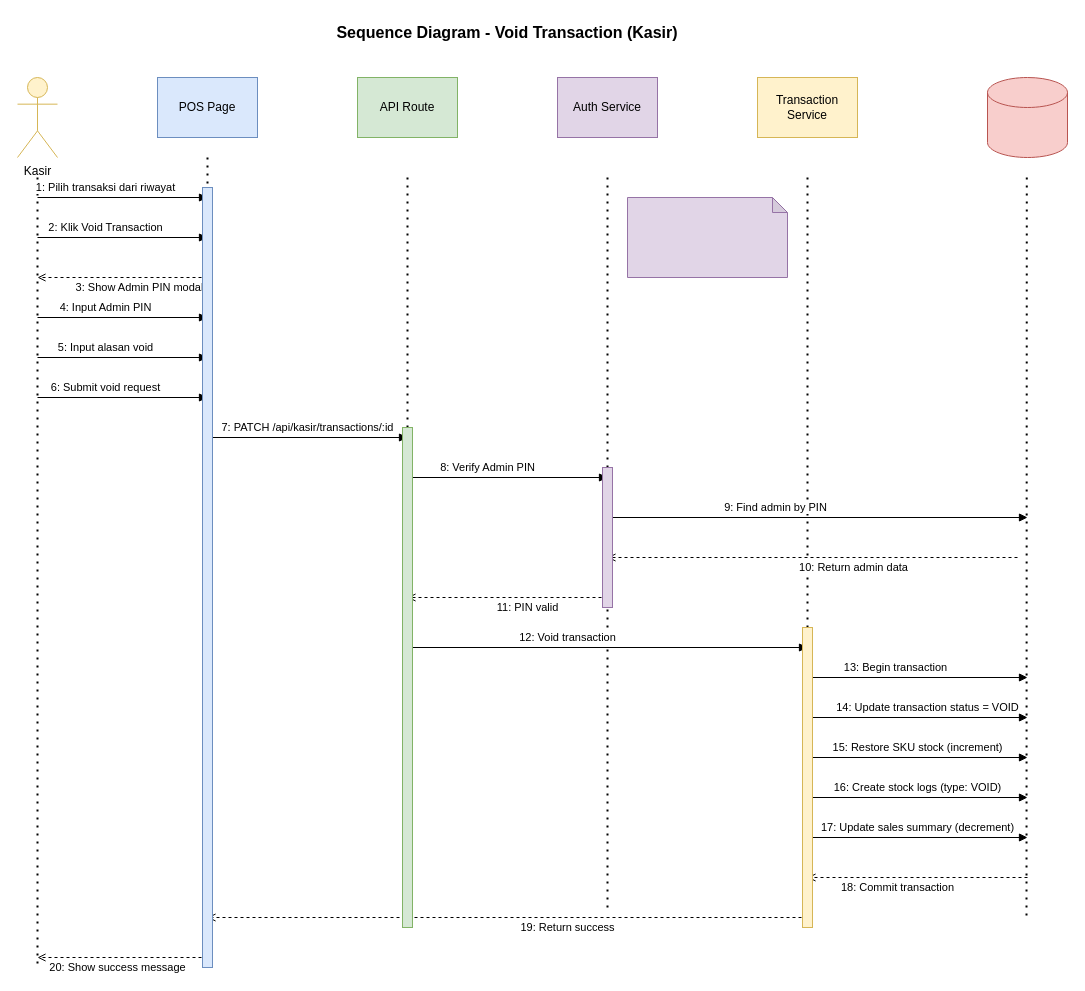
Image size: 1085x991. Some labels were removed from this diagram. The centre of each missing label's shape, as x and y in pixels:
Database: (x=1027, y=117)
Note: Admin PIN required untuk authorization void transaction: (x=707, y=237)
